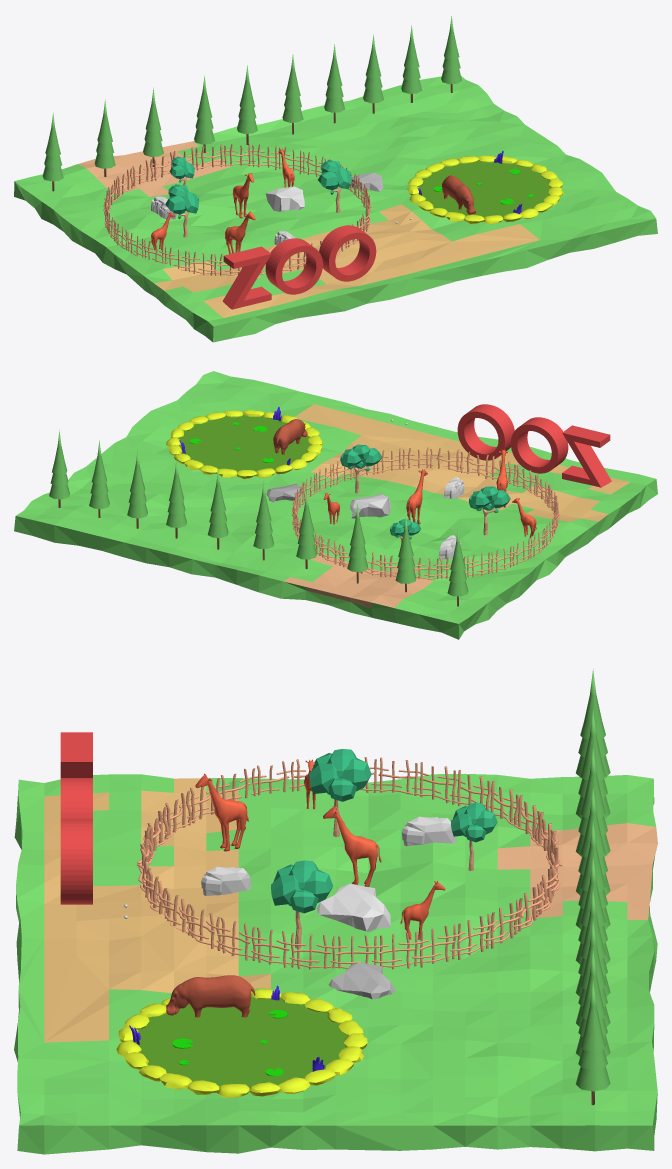
Rendered from zoo.fbx.
3 views of the same model, one above another, from view 1: azimuth 30°, elevation 25°; view 2: azimuth 150°, elevation 25°; view 3: azimuth 270°, elevation 25° (orthographic). The views are drawn at different scales.
Visible parts, largest first — view 1: Plane.002, Pond, Text, fence, Cube.006, Cube.002, Firtree_4.003, Firtree_4.004, Firtree_4.006, Firtree_4.010, Firtree_4.009, Firtree_4.002 (+7 smaller); view 2: Plane.002, Pond, Text, fence, Cube.002, Cube.006, Firtree_4.005, Firtree_4.008, Firtree_4.004, Firtree_4.006, Firtree_4.003, Firtree_4.007 (+9 smaller); view 3: Plane.002, Pond, fence, Text, Hippo, Cube.002, Cube.006, rock, Firtree_4, rock.001, Cube.001, Plane.004 (+13 smaller).
Boxes of the visible parts, x1,y1,x2,y2 form: Plane.002: (14,76,657,342); Pond: (407,151,563,224); Text: (222,225,376,309); fence: (103,144,371,275); Cube.006: (165,184,199,237); Cube.002: (318,160,351,212); Firtree_4.003: (363,34,383,113); Firtree_4.004: (324,44,344,123); Firtree_4.006: (237,65,257,144); Firtree_4.010: (42,112,63,191); Firtree_4.009: (94,99,115,176); Firtree_4.002: (401,25,422,102); Plane.002: (14,371,657,639); Pond: (166,407,323,478); Text: (457,404,611,487); fence: (292,447,559,579); Cube.002: (340,444,381,493); Cube.006: (469,486,510,535); Firtree_4.005: (207,468,228,549); Firtree_4.008: (347,503,367,583); Firtree_4.004: (166,458,186,538); Firtree_4.006: (253,480,273,560); Firtree_4.003: (127,450,147,528); Firtree_4.007: (296,491,316,568); Plane.002: (14,773,657,1154); Pond: (116,985,367,1098); fence: (137,757,562,969); Text: (60,732,92,904); Hippo: (166,975,255,1017); Cube.002: (271,860,333,948); Cube.006: (309,749,371,836); rock: (316,883,390,931); Firtree_4: (576,980,610,1105); rock.001: (328,962,395,999); Cube.001: (451,802,497,870); Plane.004: (195,773,248,851).
Bounding box in the file's own units: 10163 × 2078 × 7861.
